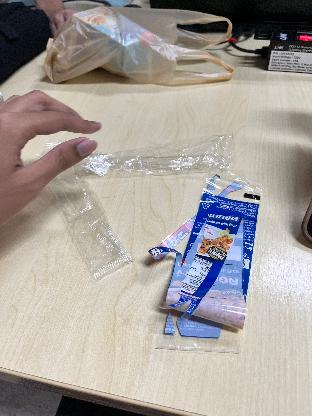Others: (156, 178, 268, 356), (24, 158, 136, 274), (71, 132, 241, 180)
